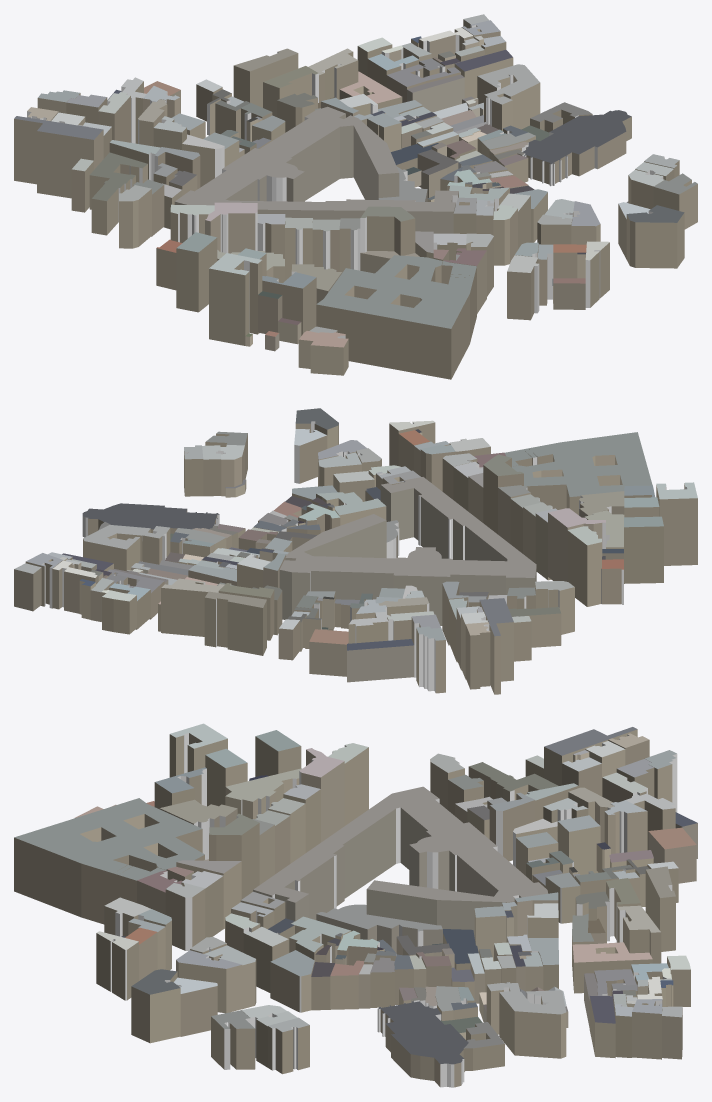
The picture shows the model from 3 angles, top to bottom: view 1: azimuth 30°, elevation 25°; view 2: azimuth 150°, elevation 25°; view 3: azimuth 270°, elevation 25°; orthographic projection. The views are drawn at different scales.
Parts seen in each view (by area): view 1: tuile; view 2: tuile; view 3: tuile.
Part boxes in pixels (left/top/right/bottom): tuile: left=14, top=14, right=697, bottom=379; tuile: left=14, top=408, right=697, bottom=694; tuile: left=14, top=723, right=697, bottom=1087.
Size of the model in its own units: 280 by 42.92 by 292.
